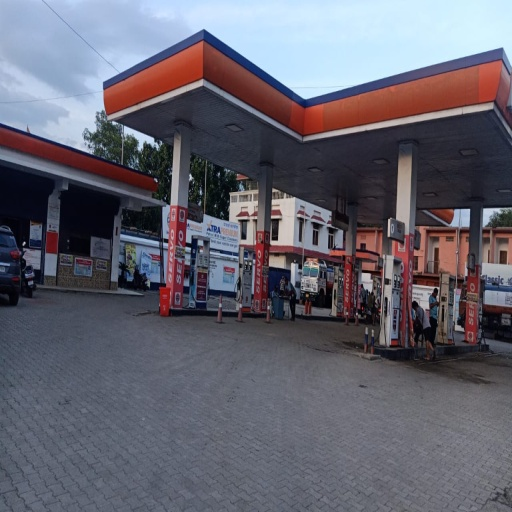roof: (102, 25, 512, 209)
